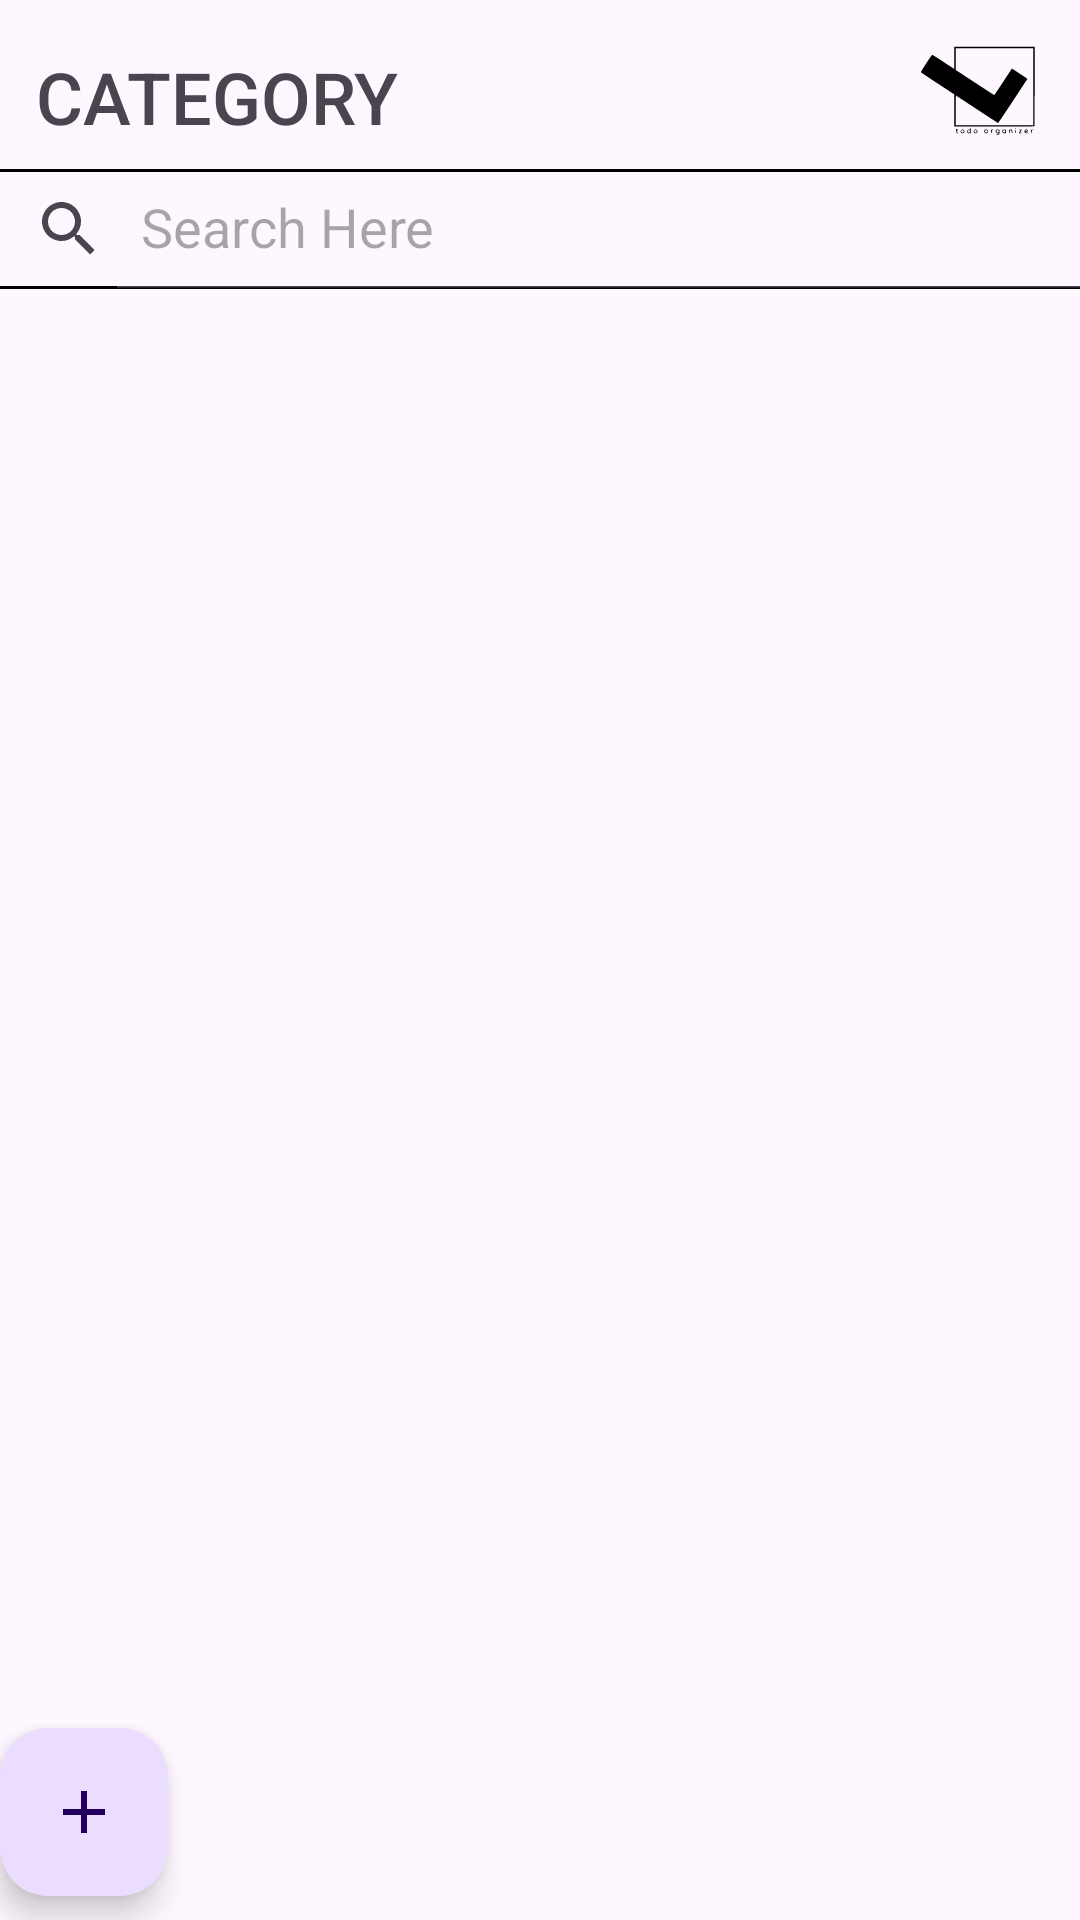

Where icons sit on this 1080 x 1920 app screen, as (x1, y1, x2, y2):
add: (0, 1728, 168, 1896)
